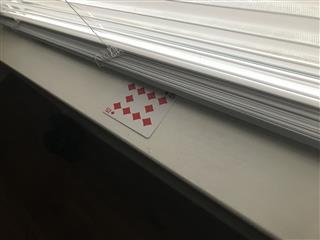TenOfDiamonds: (102, 78, 179, 138)
